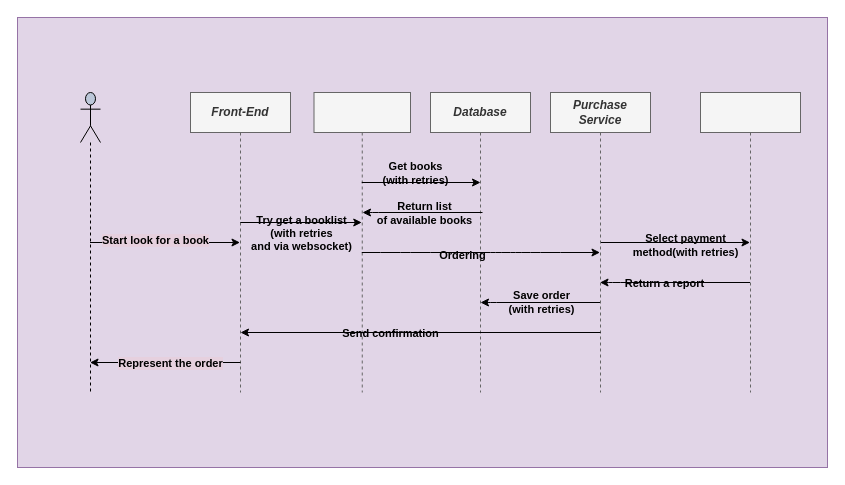
The diagram is 845 pixels wide and 485 high, and some of its shapes have lost their labels. The box of each missing label's shape, as (x1, y1, x2, y2) in pixels:
Payment Service: (700, 92, 800, 392)
Publish Service: (313, 92, 410, 392)
